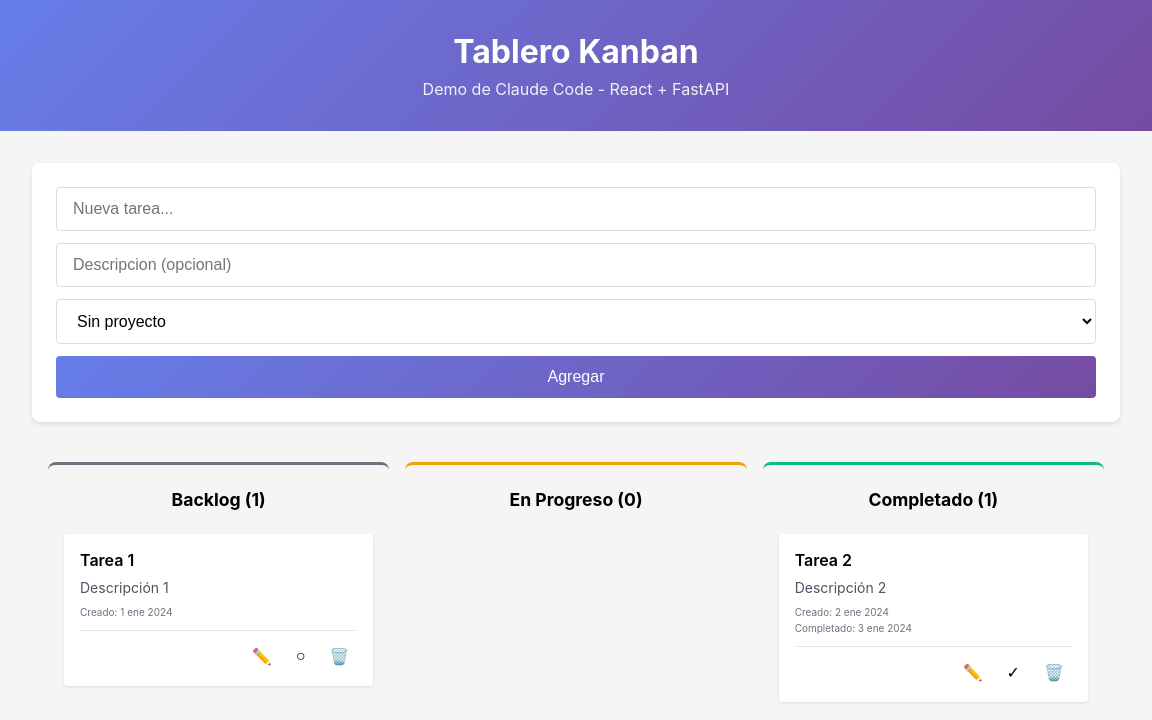
it: App › Eliminar tarea › elimina una tarea correctamente
expect the heading "Tarea 1" is shown: met, box [80,550,134,570]
Click the button titled "Eliminar" below "1 ene 2024" at (339, 656), box [321,643,357,670]
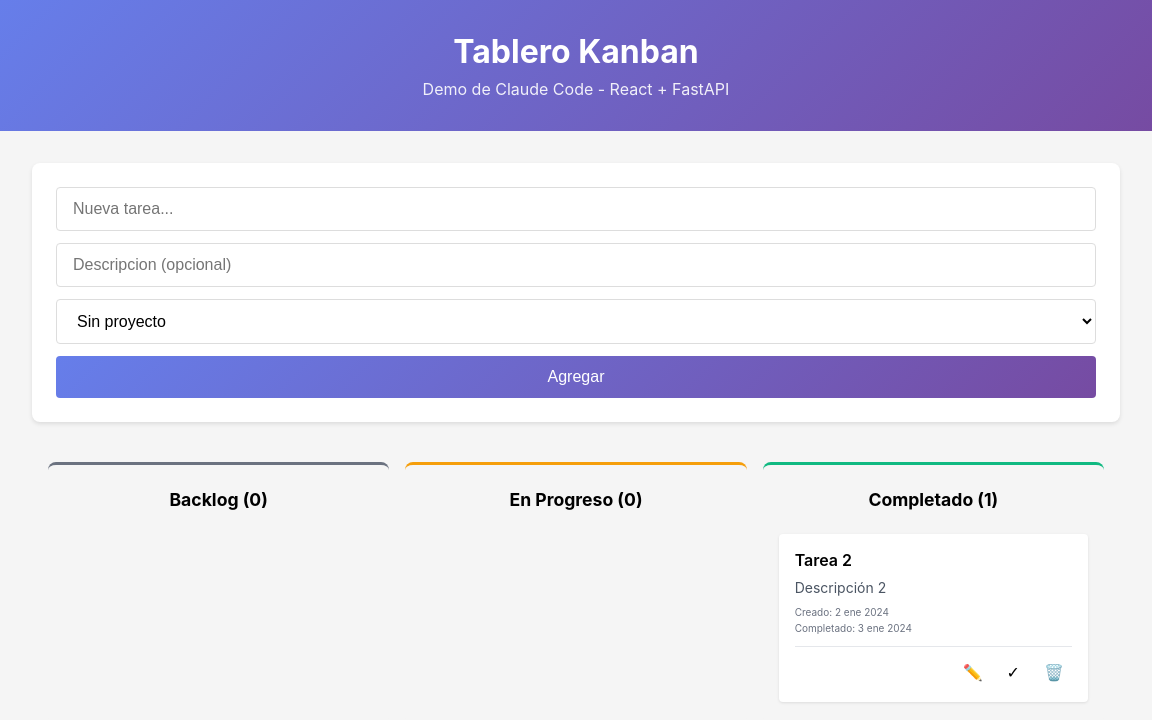
expect the heading "Tarea 1" is gone: met
